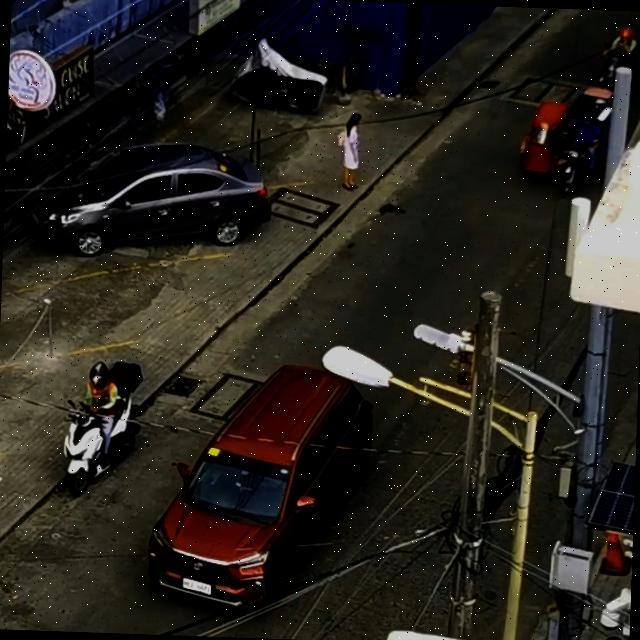Tricycle: (517, 82, 610, 196)
